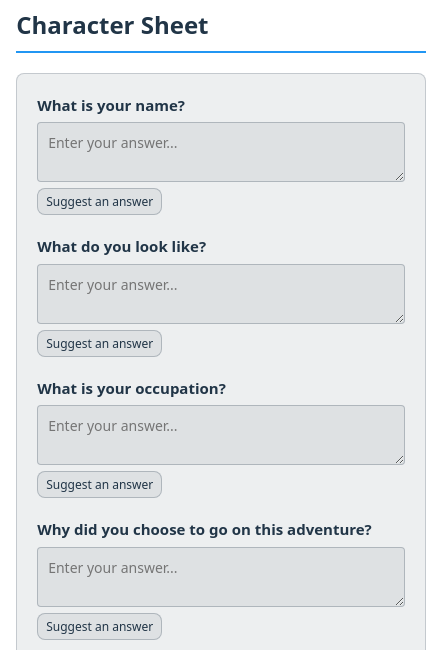
MyCharacterSheet AI answer suggestions › discarding a suggestion clears the preview and leaves the textarea untouched
Click the button "Suggest an answer" below "What is your name?". click: (100, 202)
box: x1=37 y1=188 x2=162 y2=215
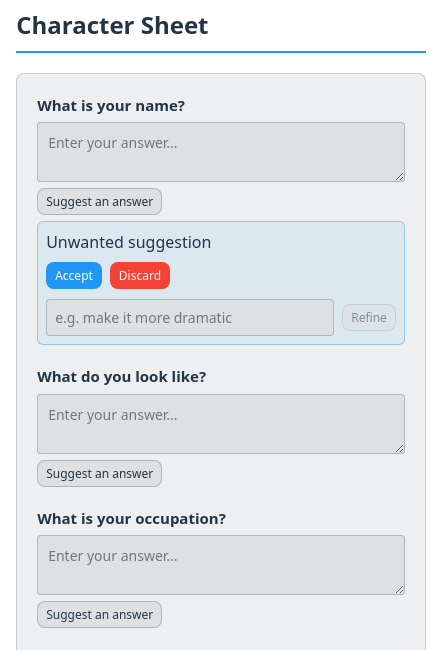
expect the text "Unwanted suggestion" is shown: met, box x1=46 y1=231 x2=211 y2=253
Click the button "Discard". click: (140, 276)
box: x1=110 y1=262 x2=170 y2=289
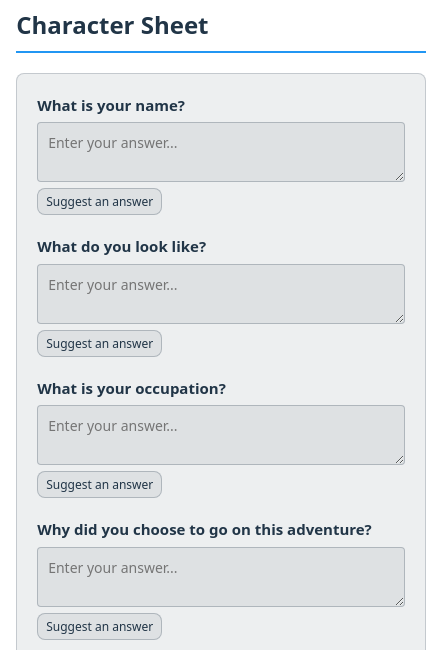
expect the text box with placeholder "Enter your answer..." below "What is your name?" is empty: met, box x1=37 y1=122 x2=405 y2=182
expect the text "Unwanted suggestion" is gone: met
